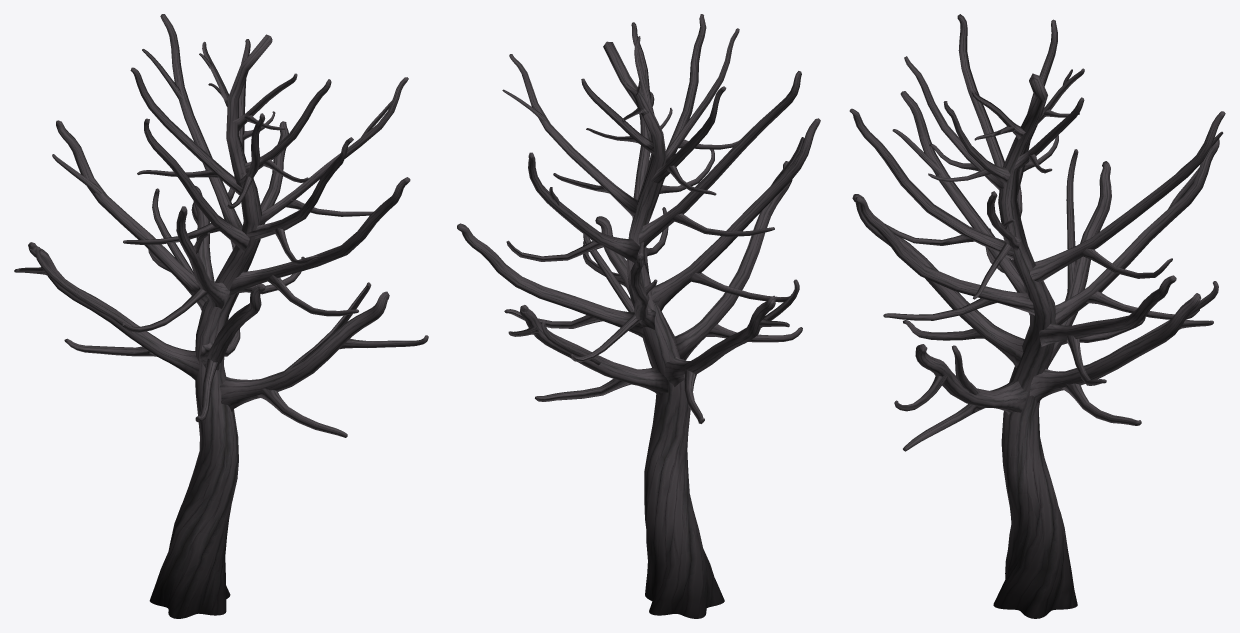
Rendered from deadtree_1.glb.
3 views of the same model, side by side, from view 1: azimuth 30°, elevation 25°; view 2: azimuth 150°, elevation 25°; view 3: azimuth 270°, elevation 25° (orthographic). The views are drawn at different scales.
Visible parts, largest first — view 1: DeadTree_1; view 2: DeadTree_1; view 3: DeadTree_1.
Boxes of the visible parts, bbox=[...] form: DeadTree_1: bbox=[14, 14, 428, 618]; DeadTree_1: bbox=[457, 14, 820, 618]; DeadTree_1: bbox=[849, 14, 1225, 618].
Size of the model in its own units: 6.15 by 9.5 by 5.75.
1 material, 1 textured.
